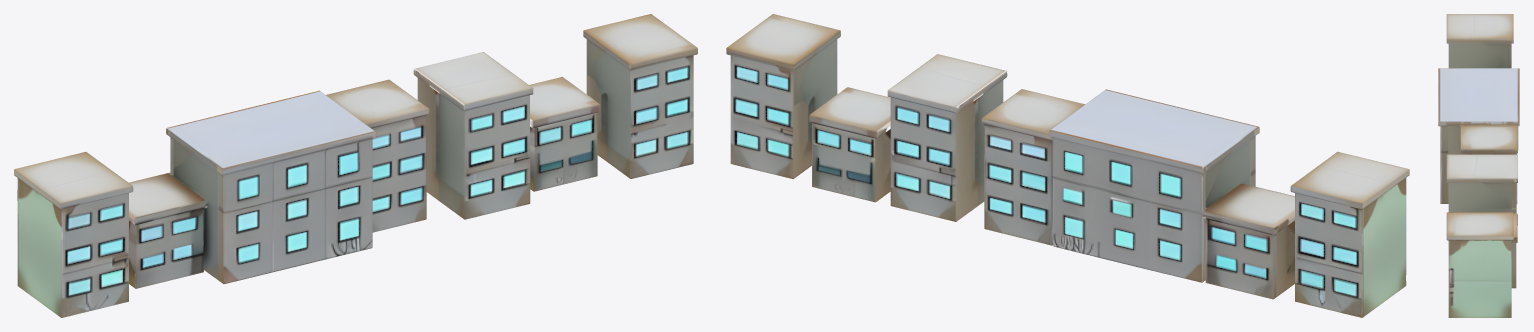
File: base_basic_shaded.fbx
3 views of the same model, side by side, from view 1: azimuth 30°, elevation 25°; view 2: azimuth 150°, elevation 25°; view 3: azimuth 270°, elevation 25° (orthographic). The views are drawn at different scales.
Parts seen in each view (by area): view 1: model; view 2: model; view 3: model.
Boxes of the visible parts, bbox=[...] form: model: bbox=[14, 14, 697, 317]; model: bbox=[726, 14, 1409, 317]; model: bbox=[1438, 14, 1519, 317].
Bounding box in the file's own units: 178 × 31.22 × 27.53.
